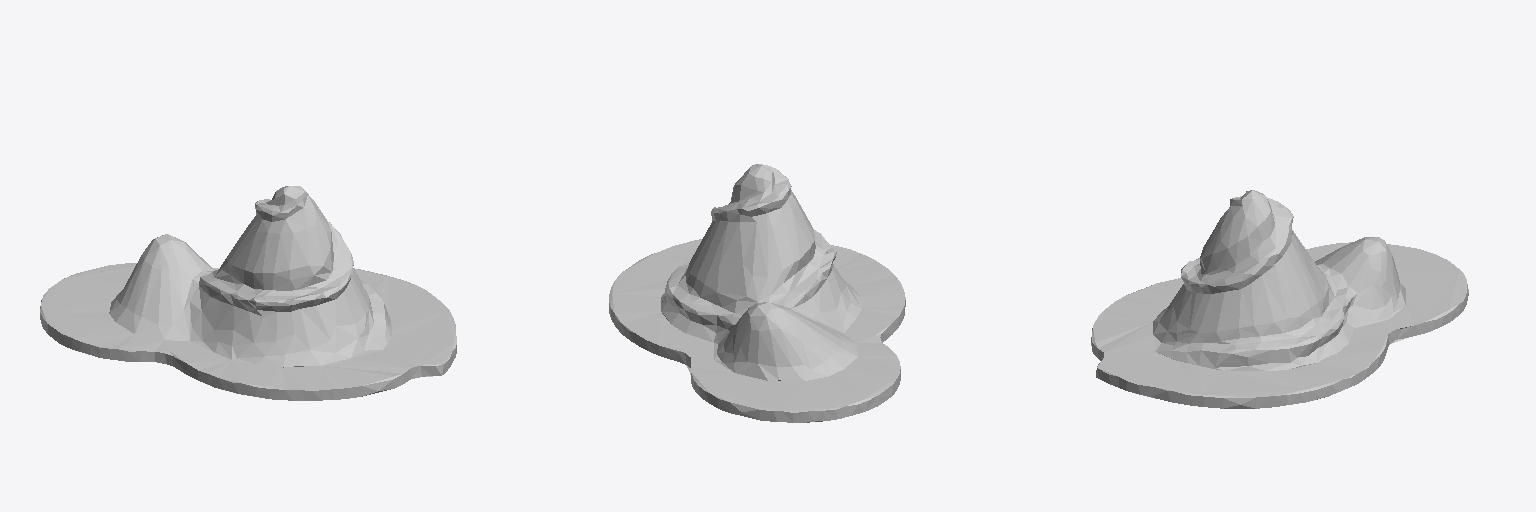
File: level04_lowpoly.obj
The picture shows the model from 3 angles: view 1: azimuth 30°, elevation 25°; view 2: azimuth 150°, elevation 25°; view 3: azimuth 270°, elevation 25°; orthographic projection.
Bounding box in the file's own units: 265 × 120 × 272.